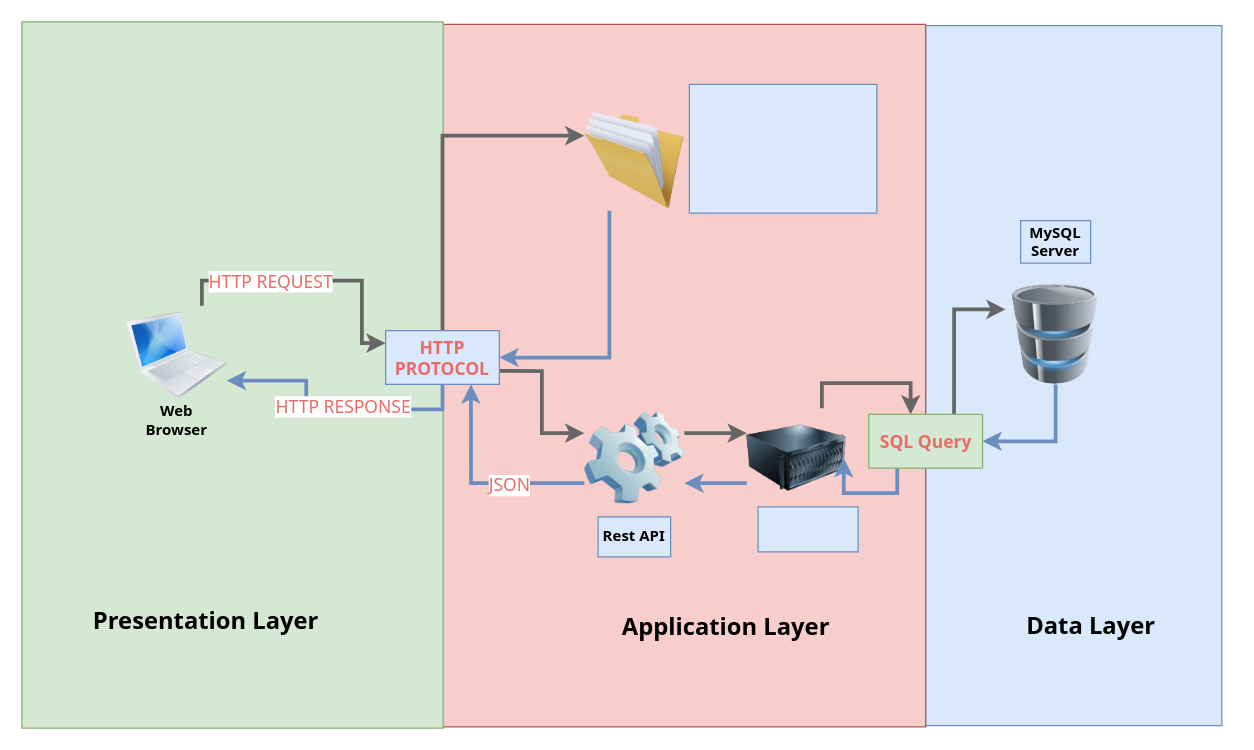
This 1254x750 diagram has some shape labels left out. Here are the shapes that lost their labels. From the top down, the box of each, then its label:
(688, 83, 877, 213): Static Files CSS JS HTML (Header,Footer, Container)
(757, 506, 858, 552): Application Server
